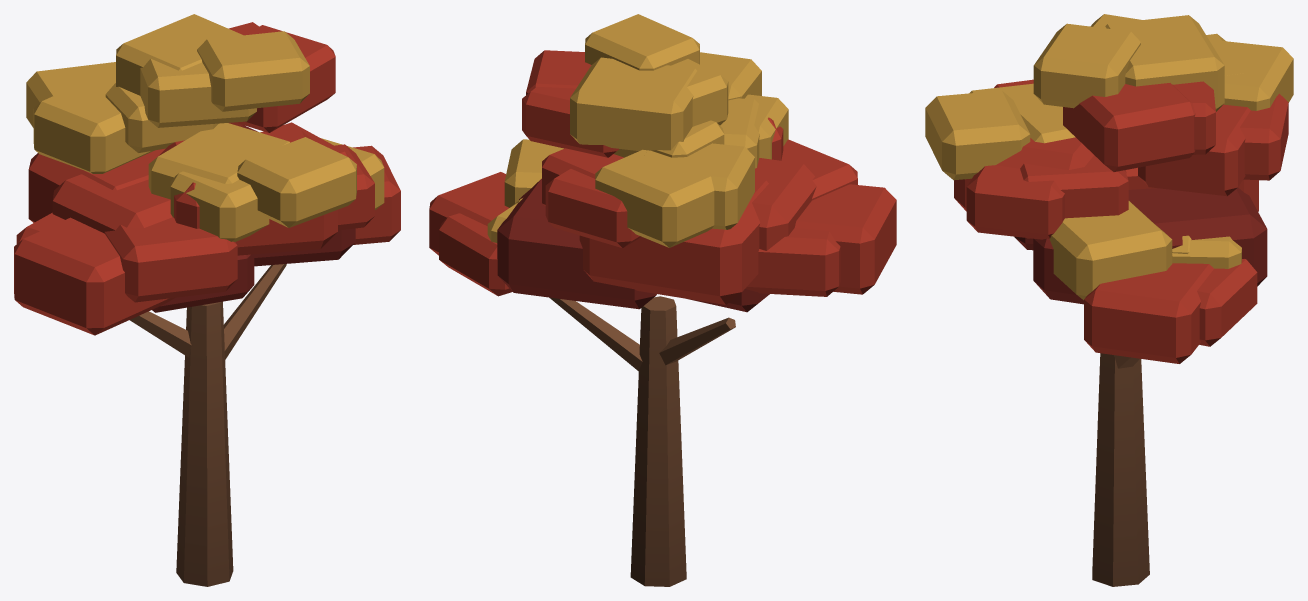
The model's file is tree_maple.glb.
The picture shows the model from 3 angles, left to right: view 1: azimuth 30°, elevation 25°; view 2: azimuth 150°, elevation 25°; view 3: azimuth 270°, elevation 25°; orthographic projection. The views are drawn at different scales.
Visible parts, largest first — view 1: TreeMaple; view 2: TreeMaple; view 3: TreeMaple.
Boxes of the visible parts, x1,y1,x2,y2 form: TreeMaple: (14, 14, 400, 586); TreeMaple: (429, 14, 896, 586); TreeMaple: (925, 14, 1293, 586).
Size of the model in its own units: 4.2 by 5.18 by 3.16.
